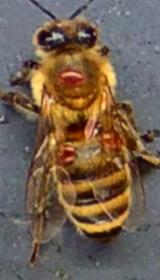varroa_mite: (46, 54, 90, 99), (90, 124, 132, 154), (58, 138, 78, 174)
